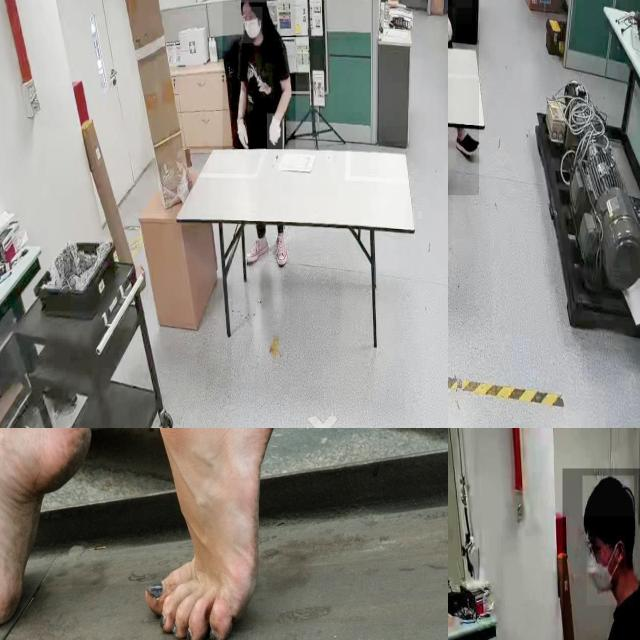Barefoots: (145, 428, 292, 640), (0, 428, 91, 636)
face_mask: (586, 519, 622, 605), (241, 7, 263, 44)
hand_glove: (232, 114, 252, 150), (267, 114, 285, 152), (448, 5, 456, 51)
head_nohelmet: (582, 476, 634, 518)
person: (562, 468, 640, 640), (222, 0, 295, 149), (448, 0, 479, 196)
shoes: (244, 230, 270, 272), (454, 127, 484, 159), (272, 231, 290, 267)
